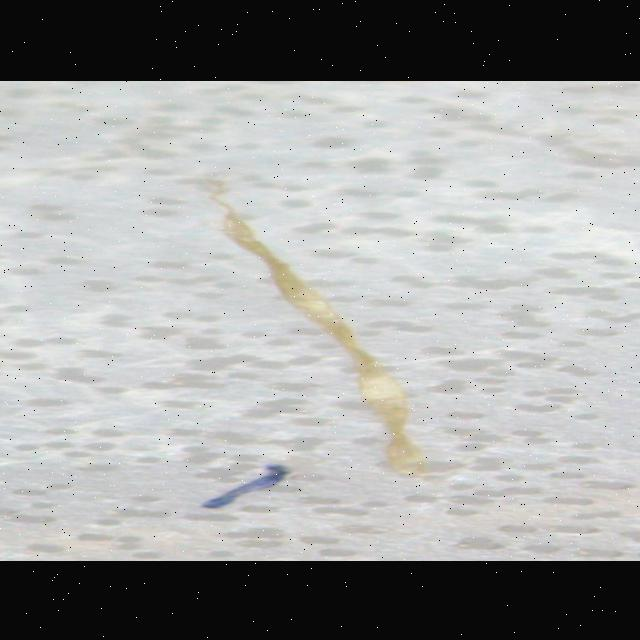Fibre: (200, 175, 436, 479)
